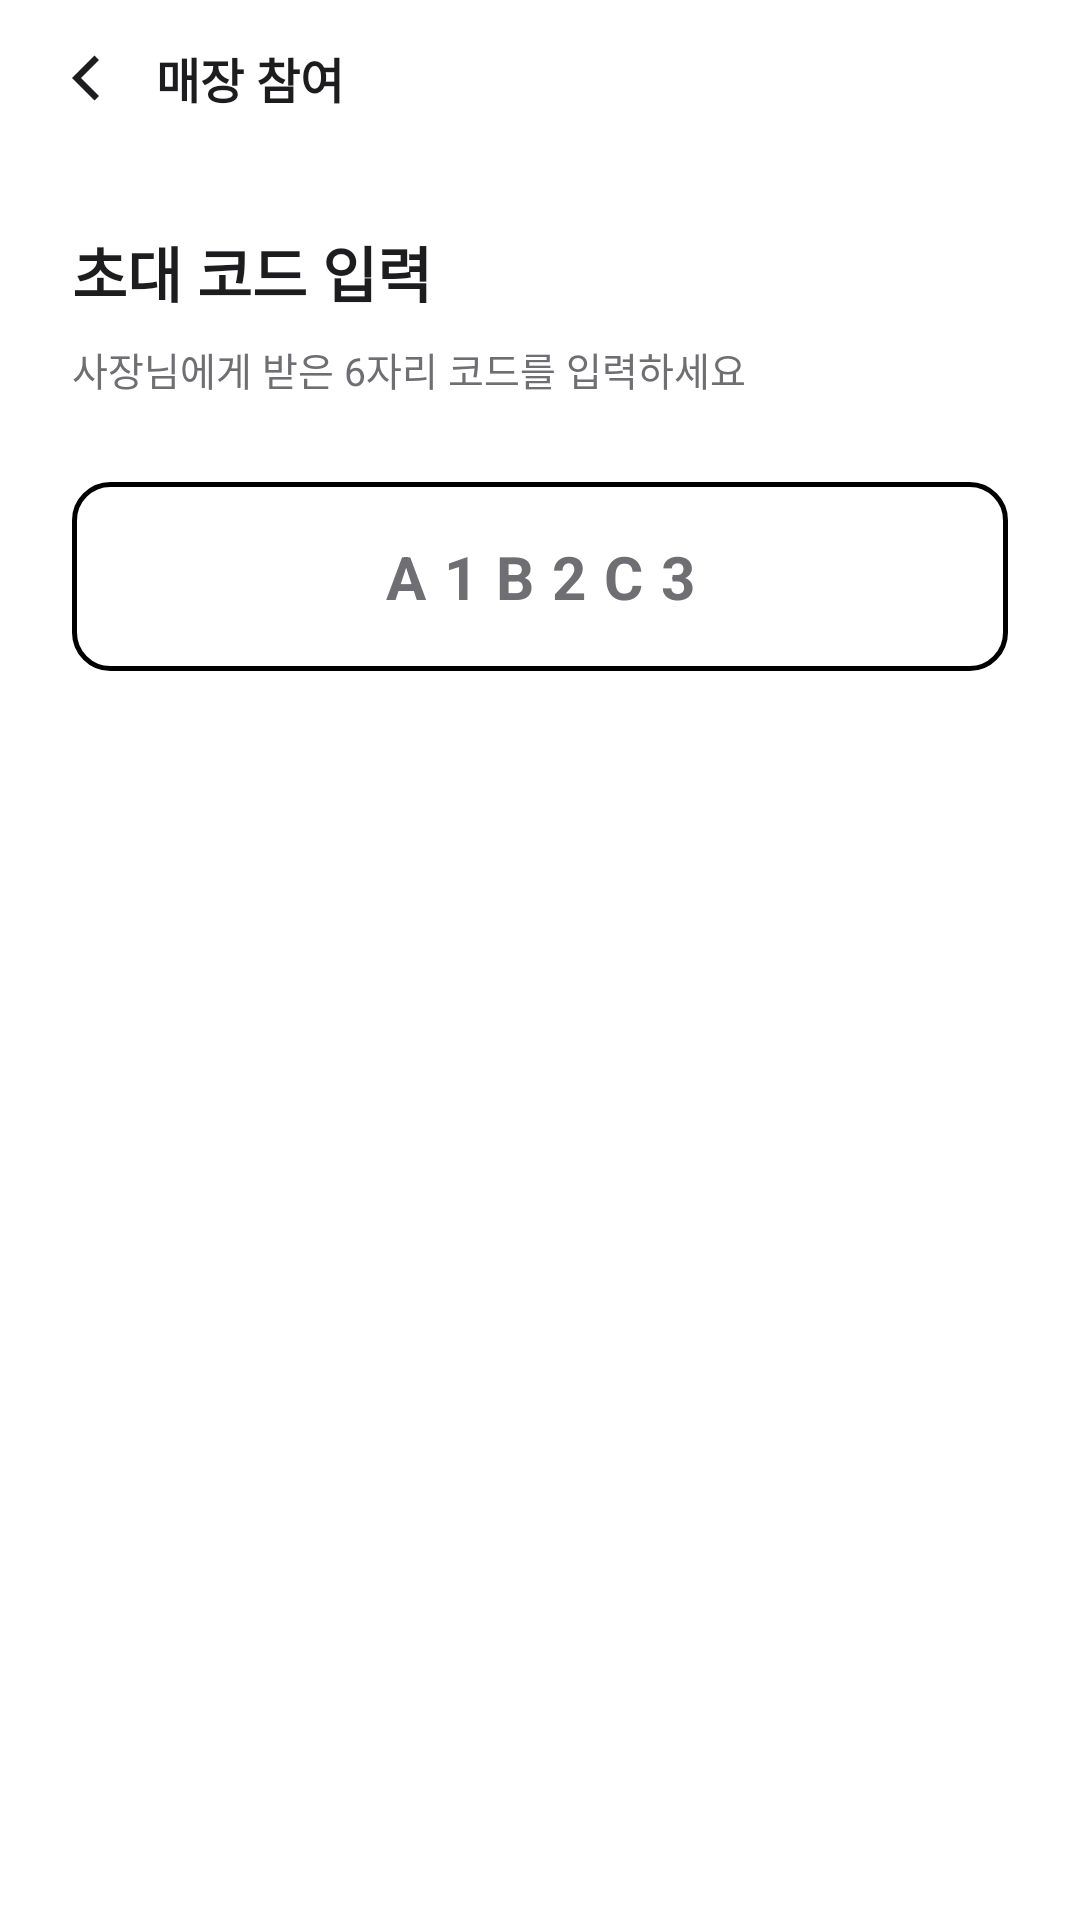

Icon click points for this 1080 x 1920 phone screenshot, format (x,y):
뒤로: (85,78)
